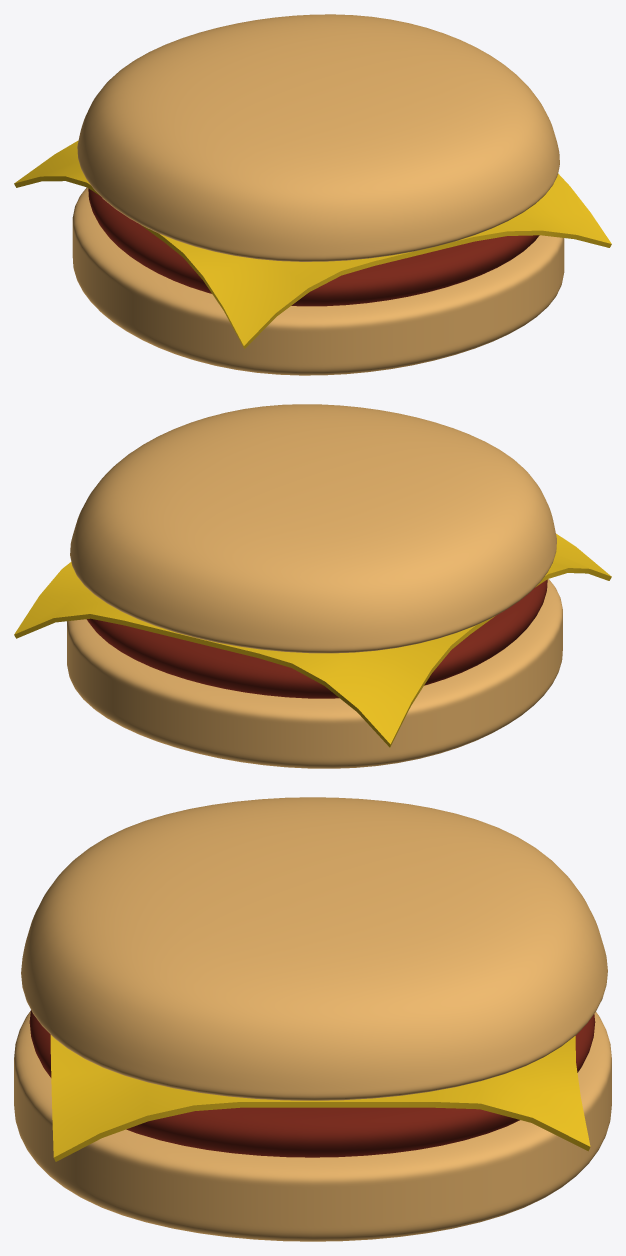
Rendered from cheeseburger.glb.
3 renders of one model, top to bottom at view 1: azimuth 30°, elevation 25°; view 2: azimuth 150°, elevation 25°; view 3: azimuth 270°, elevation 25°, orthographic. The views are drawn at different scales.
Parts seen in each view (by area): view 1: Cube.002, Cube, Plane, Cube.001; view 2: Cube.002, Cube, Plane, Cube.001; view 3: Cube.002, Cube, Plane, Cube.001.
Boxes of the visible parts, x1=… form: Cube.002: x1=77, y1=14, x2=559, y2=261; Cube: x1=72, y1=187, x2=564, y2=375; Plane: x1=14, y1=140, x2=611, y2=348; Cube.001: x1=88, y1=188, x2=539, y2=306; Cube.002: x1=70, y1=404, x2=556, y2=653; Cube: x1=67, y1=579, x2=562, y2=768; Plane: x1=14, y1=533, x2=611, y2=747; Cube.001: x1=87, y1=579, x2=547, y2=698; Cube.002: x1=21, y1=797, x2=607, y2=1100; Cube: x1=14, y1=1011, x2=611, y2=1241; Plane: x1=50, y1=1035, x2=590, y2=1161; Cube.001: x1=29, y1=1010, x2=595, y2=1157.
Bounding box in the file's own units: 7.36 × 3.53 × 7.36.
